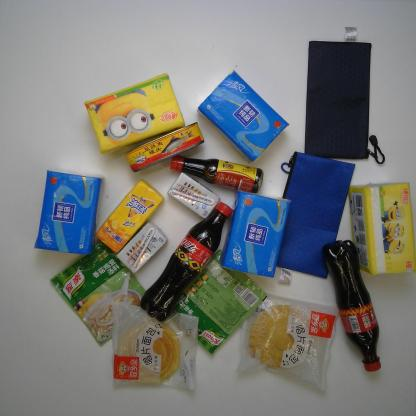Canned Food: (124, 122, 205, 174)
Dessert: (233, 293, 339, 392), (111, 302, 199, 391)
Drink: (140, 201, 234, 322), (323, 239, 381, 372), (94, 180, 164, 254)
Milk: (115, 221, 168, 275), (166, 172, 221, 219)
Seasoner: (169, 249, 268, 357), (50, 240, 146, 348), (170, 155, 264, 194)
Stationery: (304, 25, 385, 166), (276, 150, 356, 279)
Tissue: (197, 69, 290, 164), (84, 72, 185, 154), (219, 188, 292, 279), (348, 181, 416, 277), (33, 168, 104, 256)
